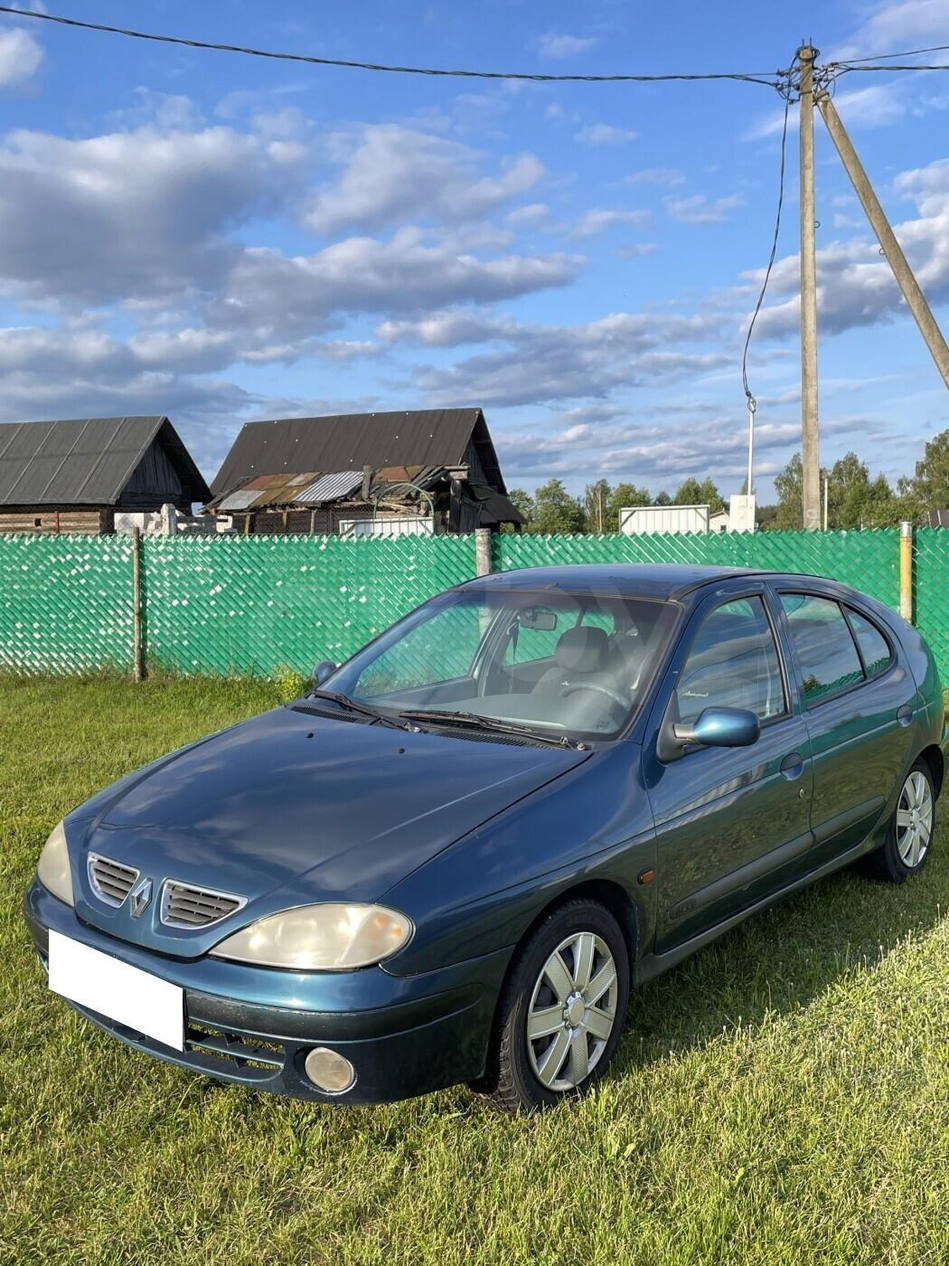Megane_1999-2003: (13, 559, 949, 1094)
